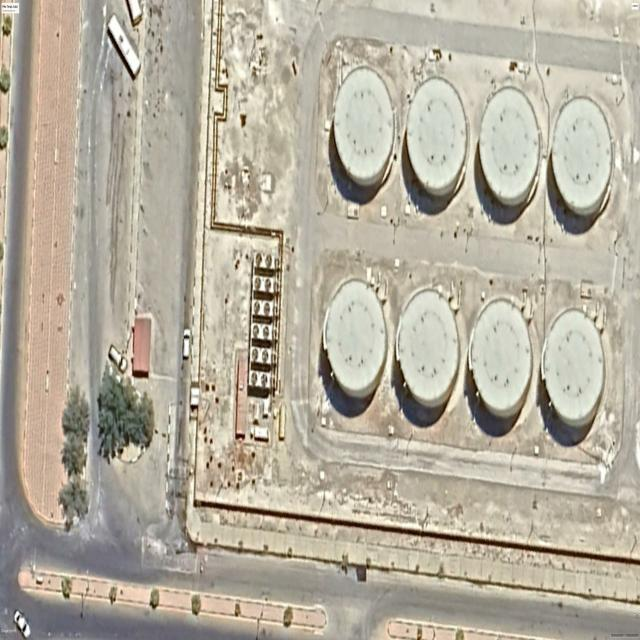Oil Rafinery: (468, 298, 533, 419), (395, 288, 460, 409), (541, 308, 605, 430), (322, 278, 387, 398), (332, 66, 395, 188), (405, 77, 468, 197), (551, 97, 613, 218), (479, 88, 539, 205)
